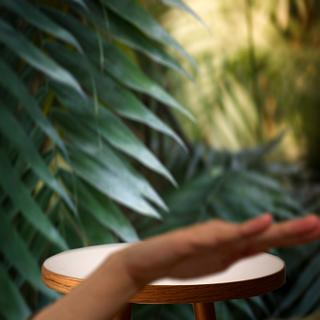WAIT: (117, 207, 320, 286)
